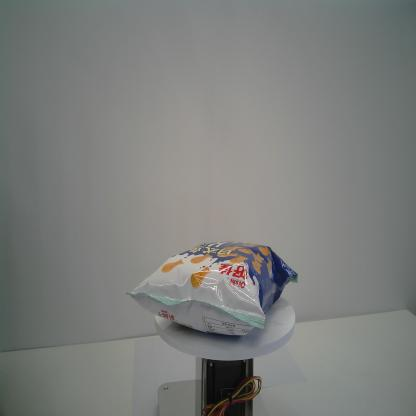Puffed Food: (125, 240, 298, 337)
